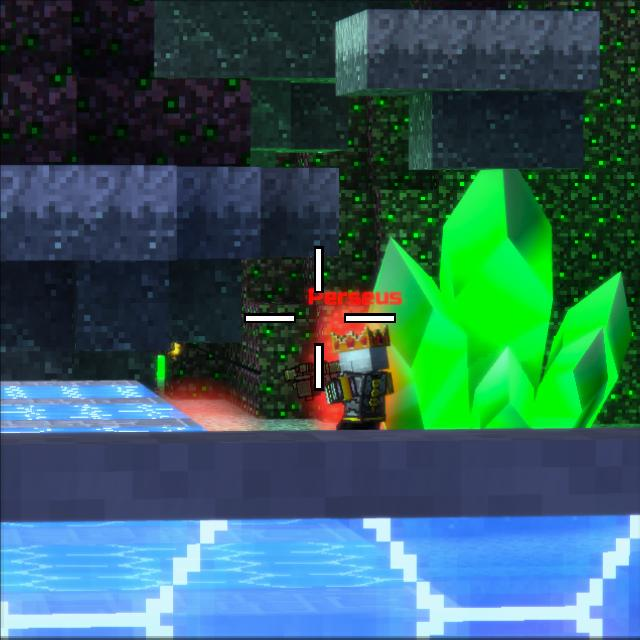Enemy: (323, 326, 393, 427)
